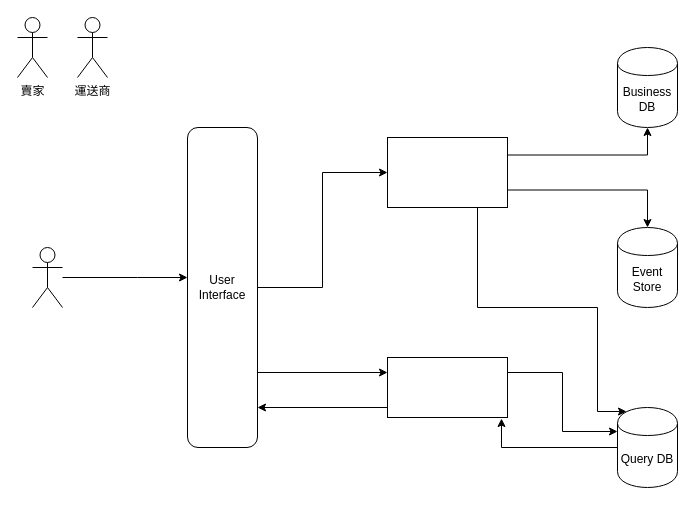
Image size: 695x505. Some labels were removed from this diagram. The shapes that lost their labels are listed below. From the top down, each one's centre as x and y in pixels, then its label:
At point 447,172: "Command Bus".
At point 47,277: "買家".
At point 447,387: "Query Bus".
